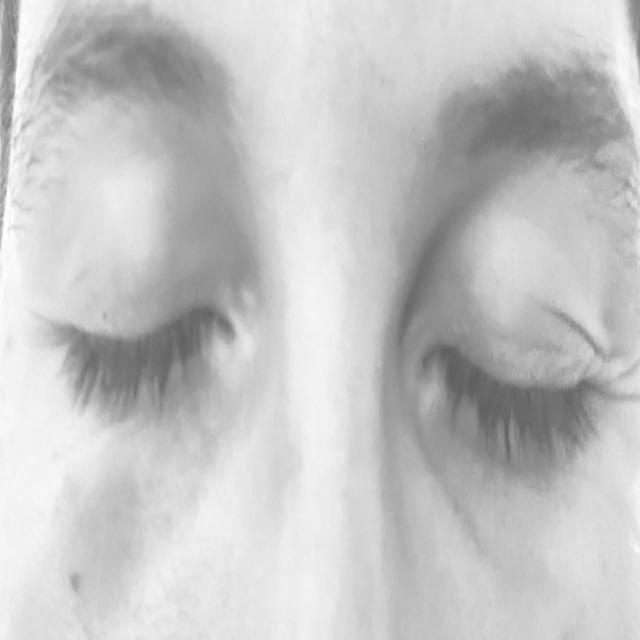real: (32, 109, 607, 539)
